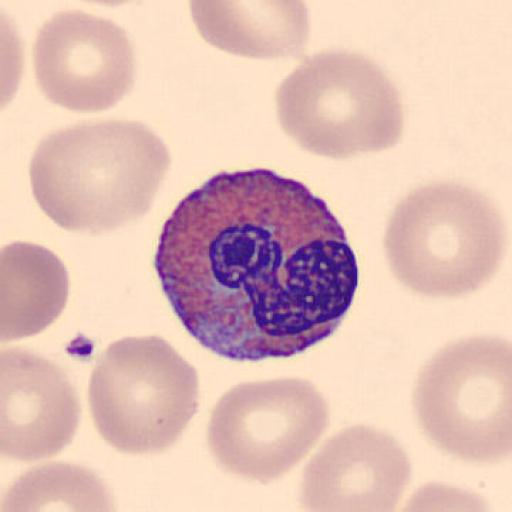RBC: (26, 116, 173, 236), (380, 177, 508, 300), (274, 46, 406, 161), (86, 332, 201, 458), (409, 329, 512, 467), (205, 374, 331, 486), (32, 8, 139, 115), (297, 420, 414, 512), (2, 345, 82, 462), (188, 0, 311, 62), (2, 238, 71, 342), (1, 460, 118, 512), (392, 476, 497, 512), (0, 3, 26, 113), (57, 0, 162, 11)
WBC: (152, 166, 363, 363)
